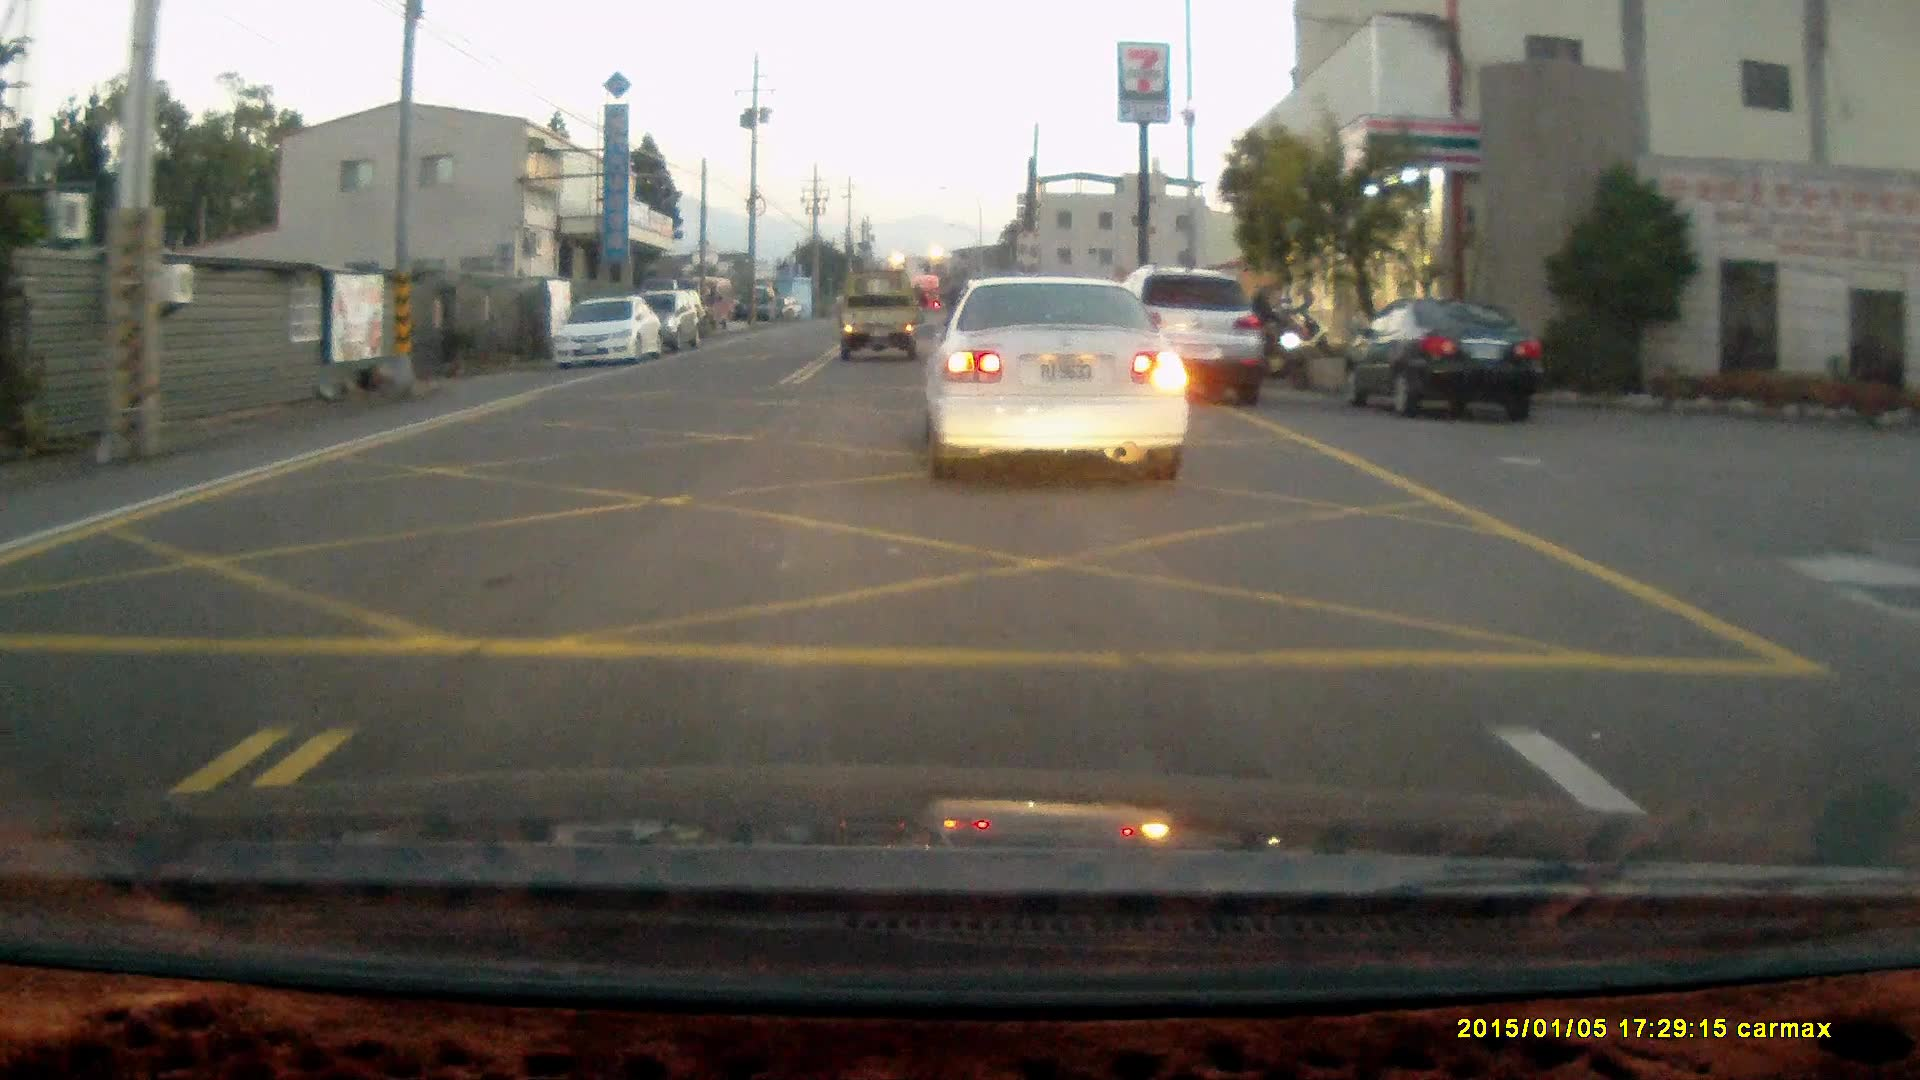rider: (1238, 279, 1313, 386)
vehicle: (934, 273, 1194, 494), (1334, 290, 1549, 421), (1121, 262, 1270, 401), (549, 283, 659, 366), (842, 264, 930, 356), (637, 289, 703, 354)
